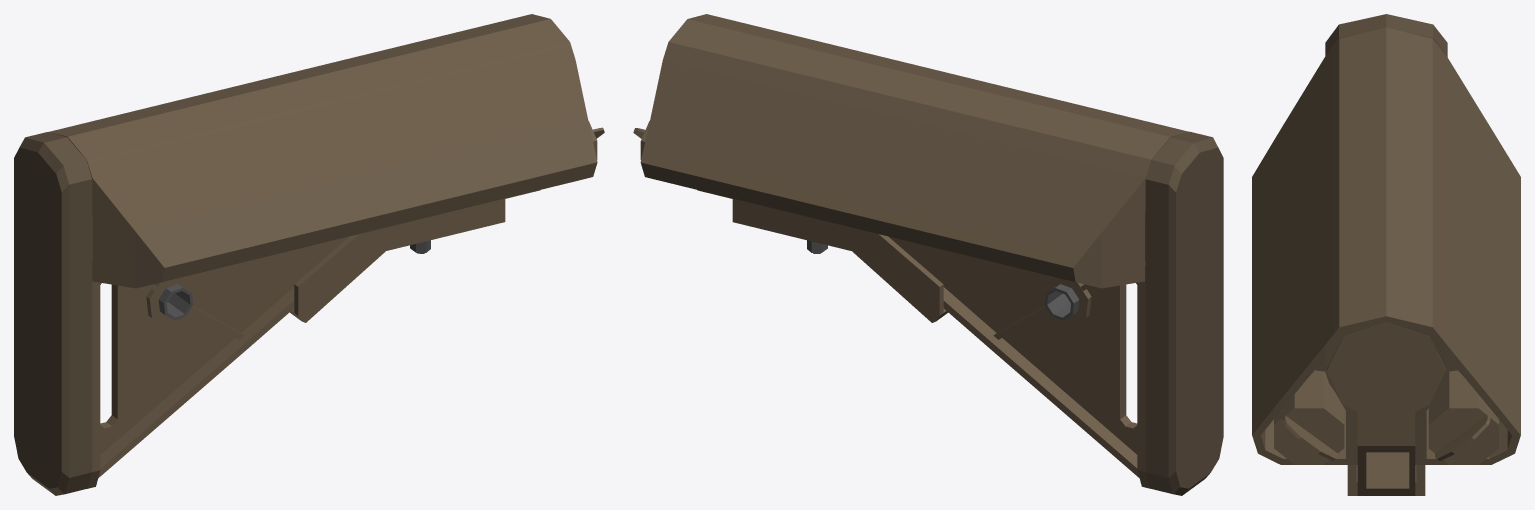
Rendered from LMT-SOPMOF_GLTF.glb.
3 views of the same model, side by side, from view 1: azimuth 30°, elevation 25°; view 2: azimuth 150°, elevation 25°; view 3: azimuth 270°, elevation 25° (orthographic). The views are drawn at different scales.
Visible parts, largest first — view 1: LMT-SOPMOF; view 2: LMT-SOPMOF; view 3: LMT-SOPMOF.
Part boxes in pixels (bbox=[...]): LMT-SOPMOF: bbox=[14, 14, 604, 495]; LMT-SOPMOF: bbox=[633, 14, 1223, 495]; LMT-SOPMOF: bbox=[1252, 14, 1520, 495].
Size of the model in its own units: 3.61 by 2.24 by 1.29.
